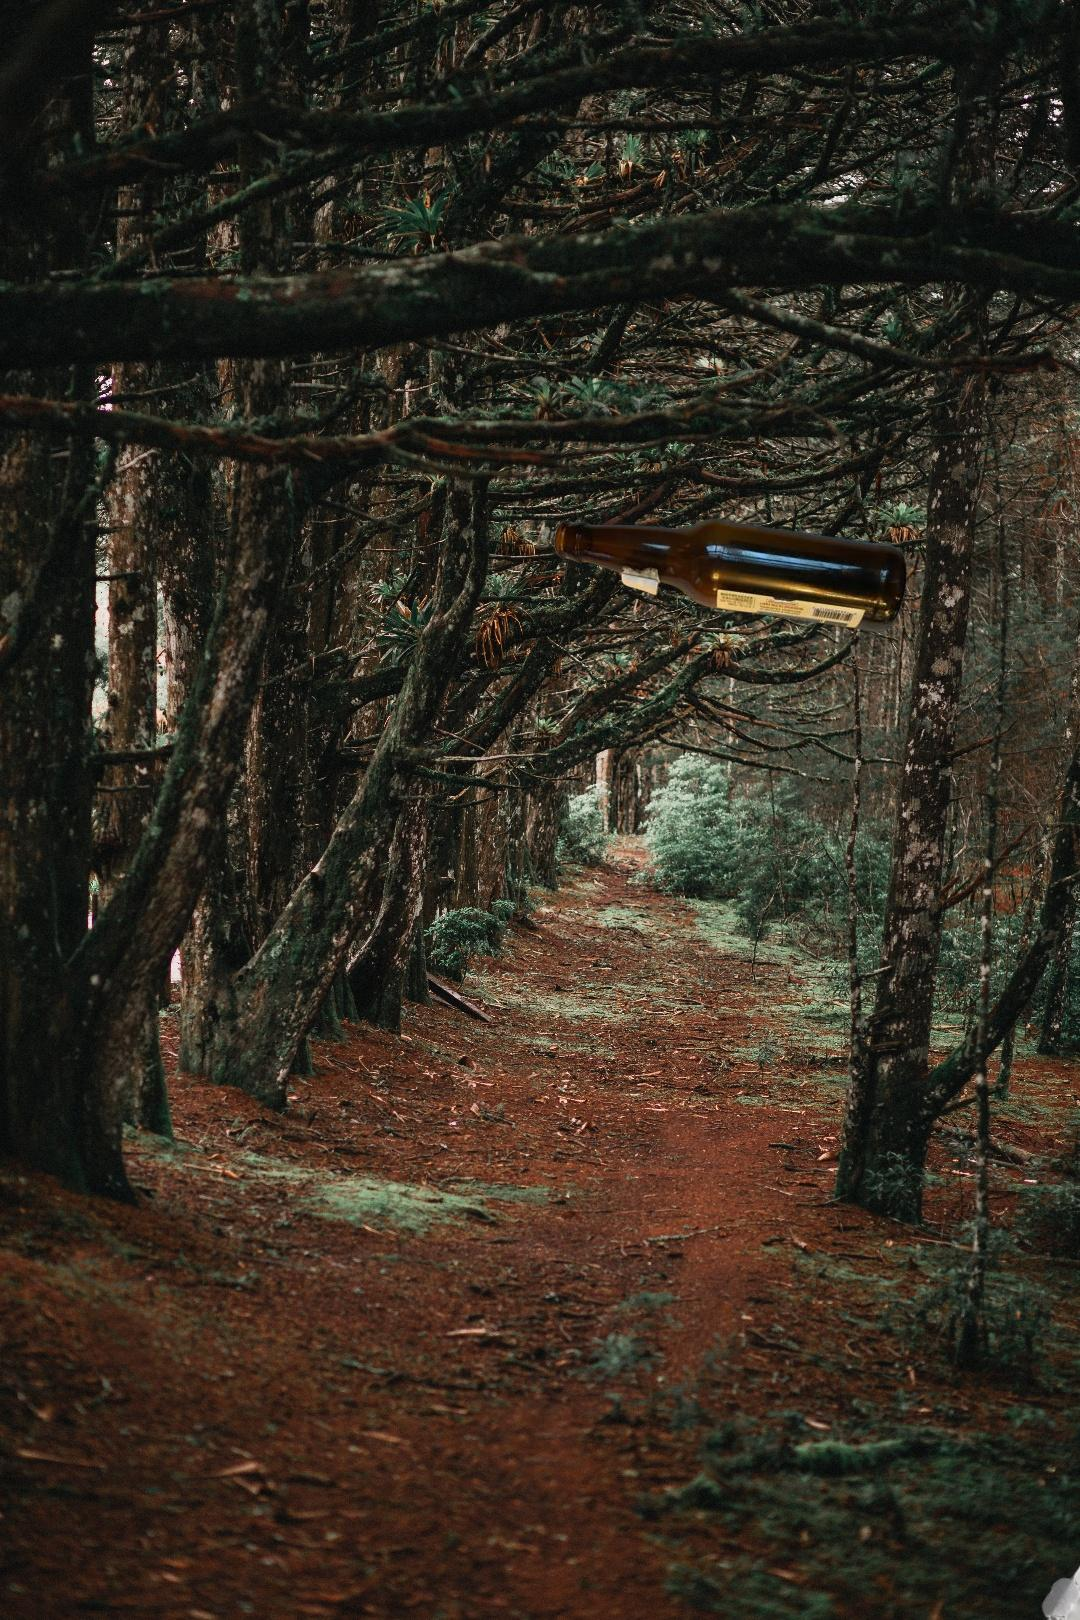glass: (548, 515, 911, 636)
paper: (947, 1438, 1080, 1620)
